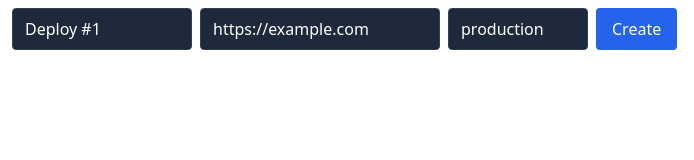
Test: DeploymentForm › resets form to defaults after successful submission
This screenshot has width=694, height=160.
Replace the text in the field with test id "deployment-name-input" with "Custom Deploy" at x=102, y=29, box left=12, top=8, right=192, bottom=50
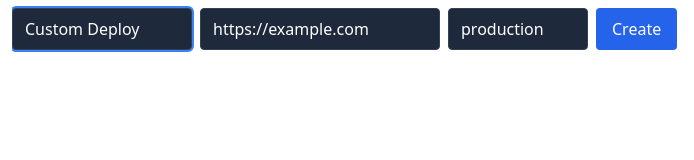
Replace the text in the field with test id "deployment-url-input" with "https://custom.com" at x=320, y=29, box left=200, top=8, right=440, bottom=50
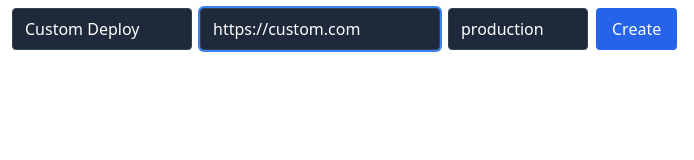
Replace the text in the field with test id "deployment-environment-input" with "staging" at x=518, y=29, box left=448, top=8, right=588, bottom=50
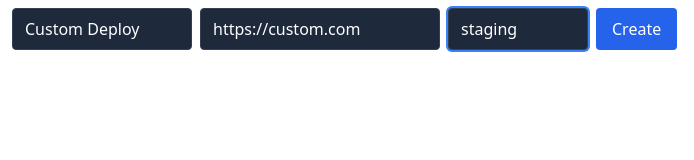
Click the button with test id "create-deployment-button" at x=637, y=29, box left=596, top=8, right=677, bottom=50
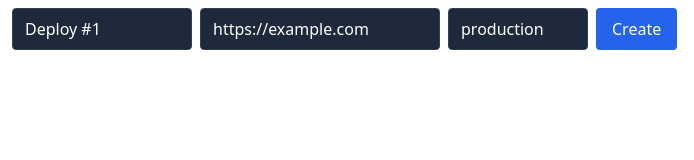
Now the field with test id "deployment-name-input" holds "Deploy #1", box left=12, top=8, right=192, bottom=50
Now the field with test id "deployment-url-input" holds "https://example.com", box left=200, top=8, right=440, bottom=50
Now the field with test id "deployment-environment-input" holds "production", box left=448, top=8, right=588, bottom=50
